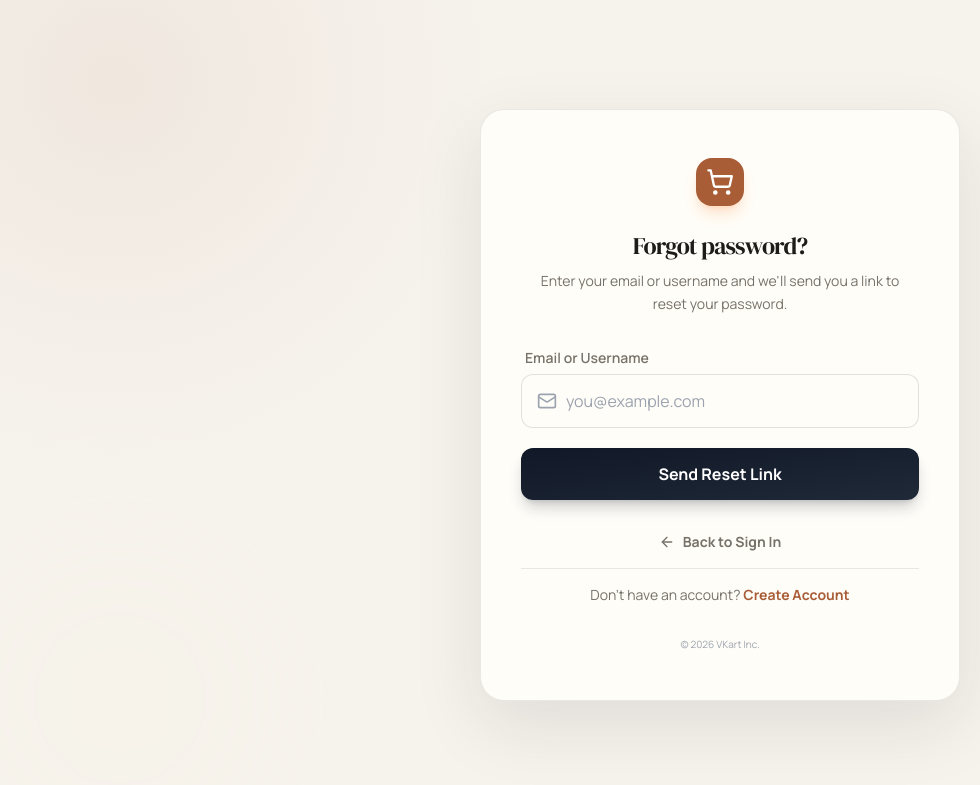
ForgotPassword Component › shows error message on failure
Type "wrong@user.com" into the field with placeholder "you@example.com".
click(720, 401); type("wrong@user.com")  # box [521,374,919,428]
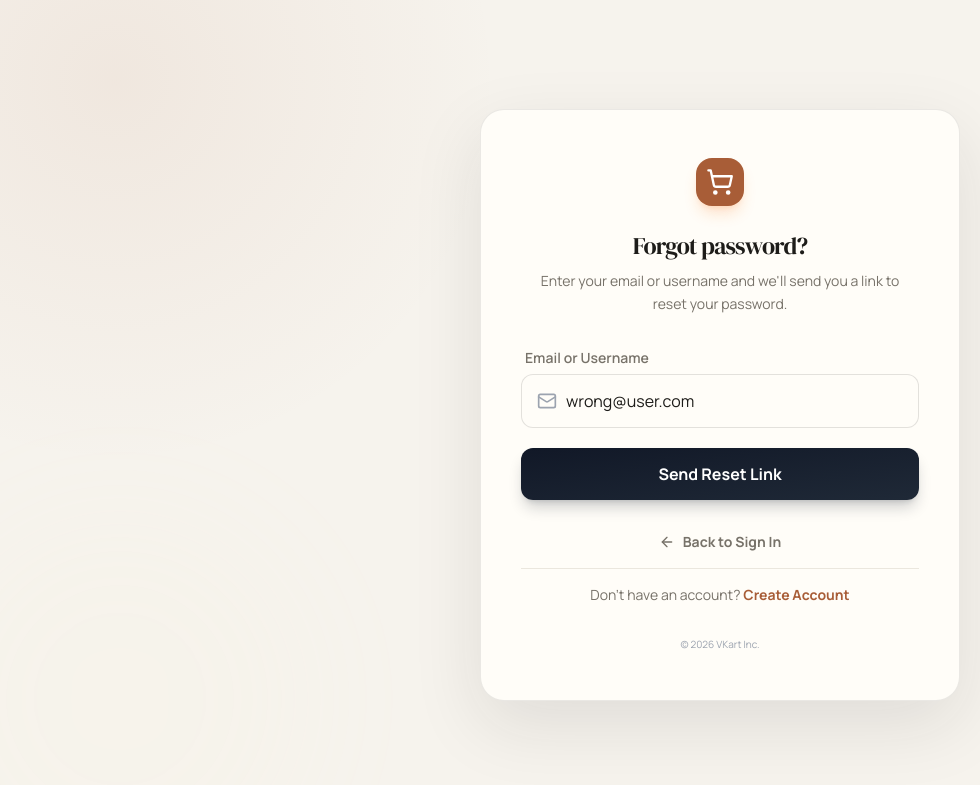
Click the button "Send Reset Link".
click(720, 474)  # box [521,448,919,500]
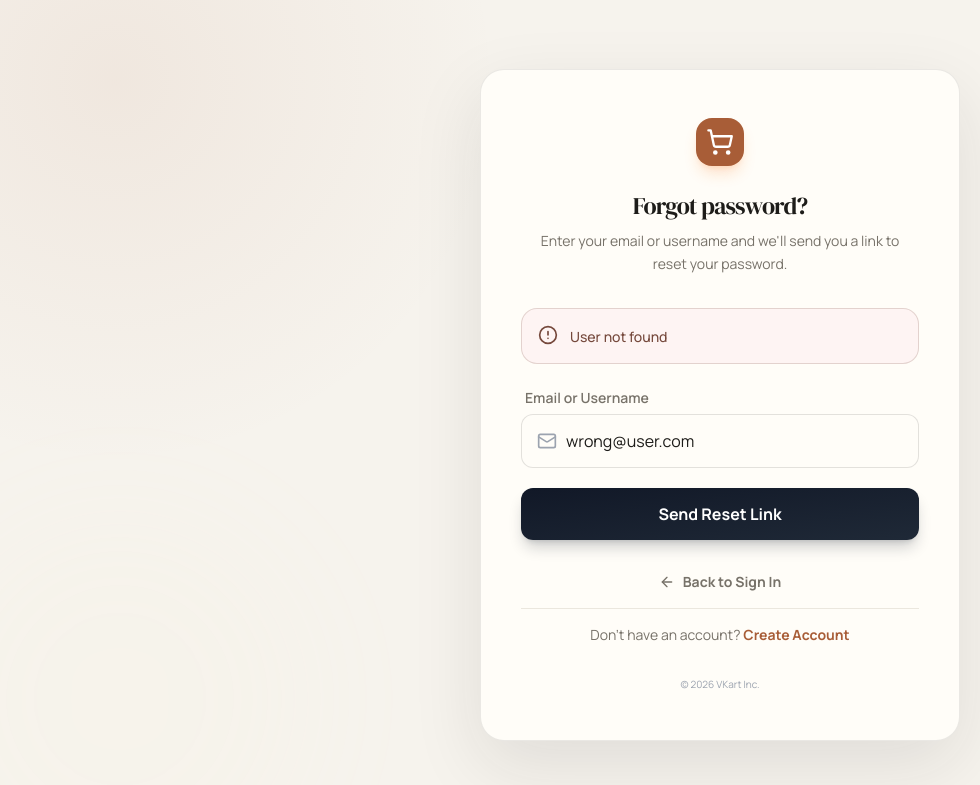
Now the text "User not found" is shown, box [570,325,668,347]
